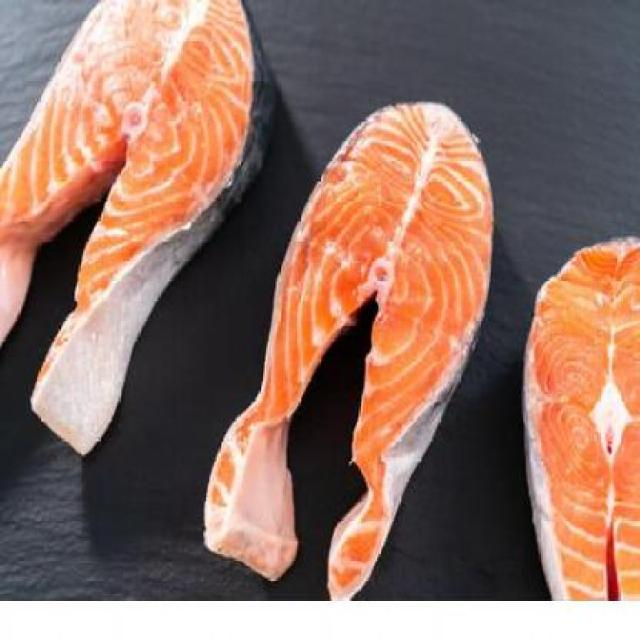salmon: (188, 92, 489, 590), (2, 3, 273, 469), (514, 223, 640, 603)
